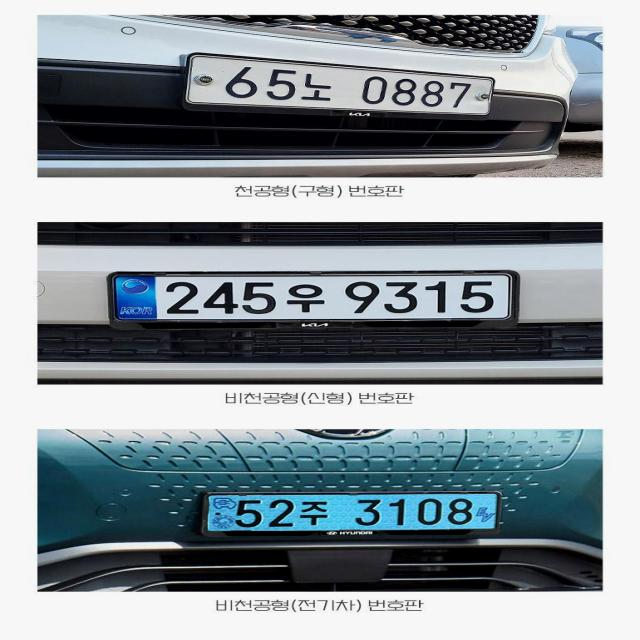EV_plate: (202, 489, 485, 548)
illegal_plate: (106, 267, 522, 339), (180, 54, 498, 122)
